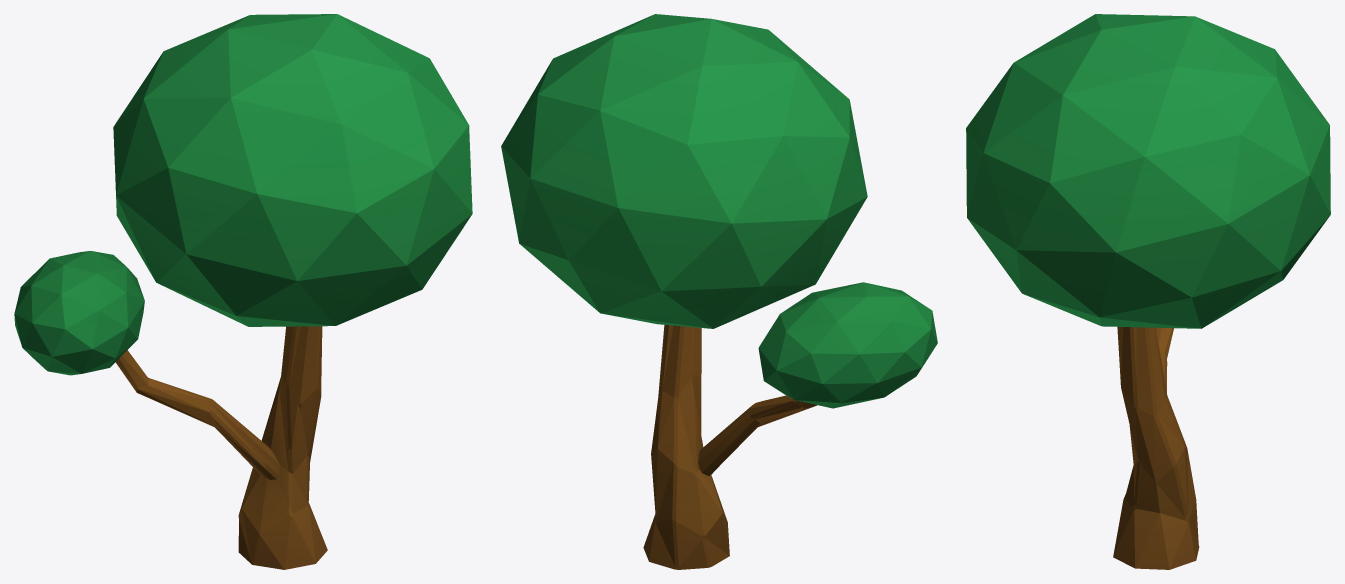
Rendered from tree_round.glb.
3 views of the same model, side by side, from view 1: azimuth 30°, elevation 25°; view 2: azimuth 150°, elevation 25°; view 3: azimuth 270°, elevation 25° (orthographic).
Parts seen in each view (by area): view 1: tree_round; view 2: tree_round; view 3: tree_round.
Boxes of the visible parts, x1=… form: tree_round: x1=14, y1=14, x2=472, y2=569; tree_round: x1=501, y1=14, x2=937, y2=569; tree_round: x1=966, y1=14, x2=1330, y2=569.
Size of the model in its own units: 2.93 by 3.5 by 2.21.
Materials: 1 (1 with a texture image).
